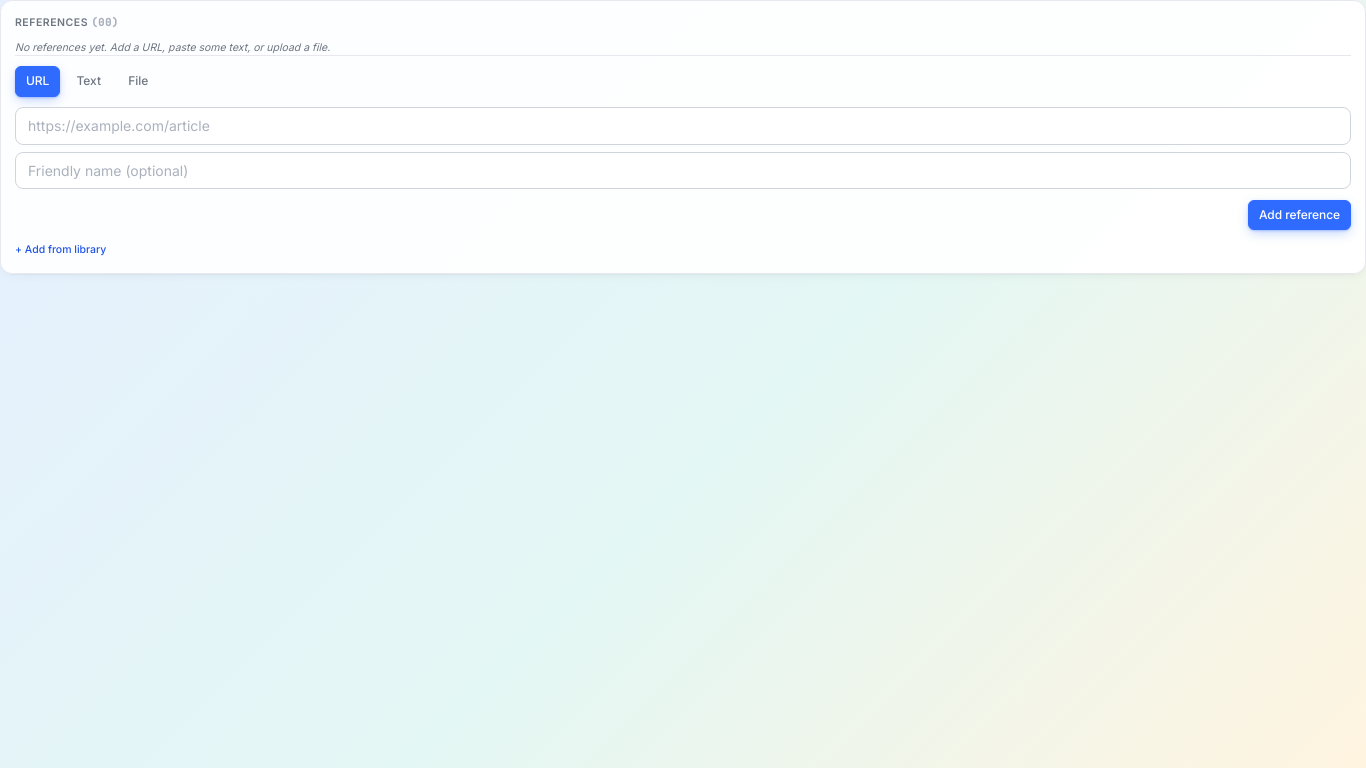
Test case: ReferencesList › submits a URL through AddReferenceForm and appends it to the list
Expected: the text "No references yet" is shown, [15, 40, 330, 54]
In the field named "Reference URL": (683,126) [15, 107, 1351, 145], type "https://example.com"
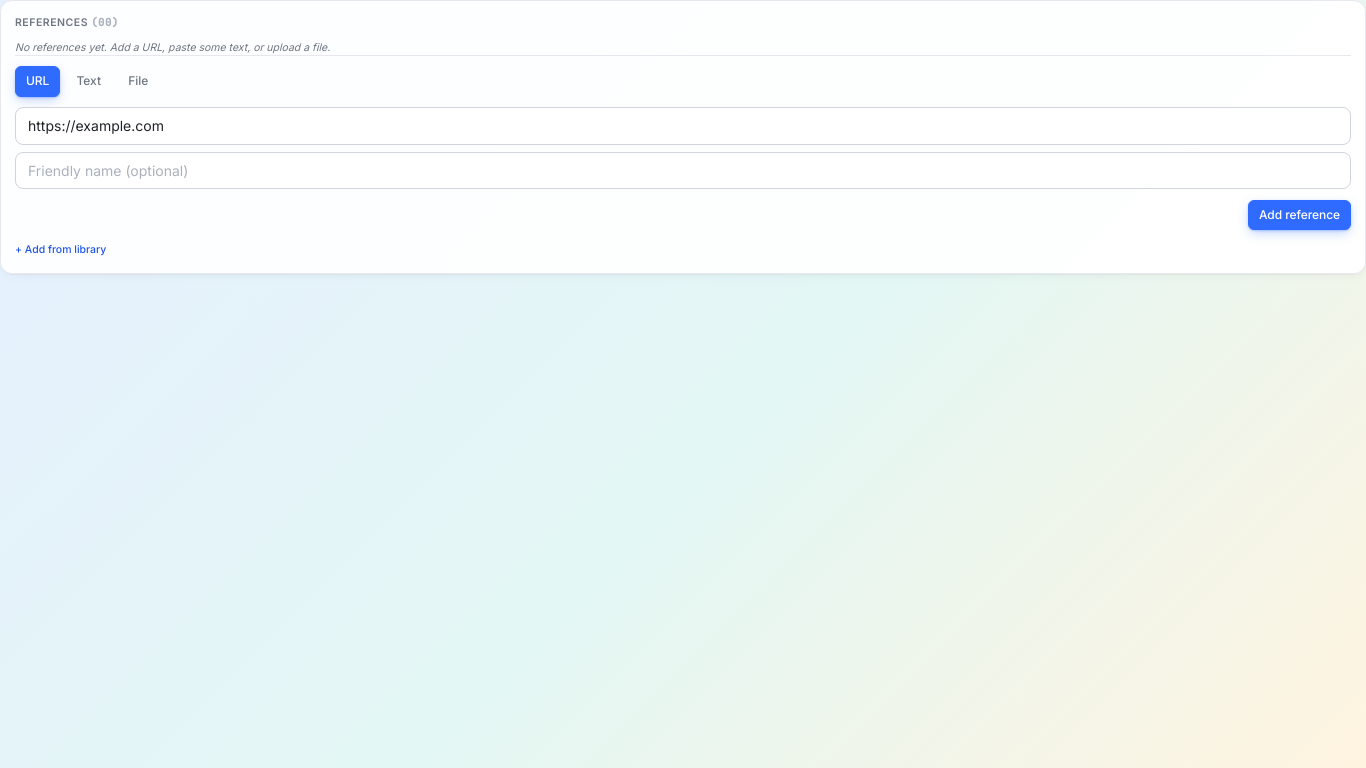
Click the button "Add reference": (1299,215) [1248, 200, 1351, 230]
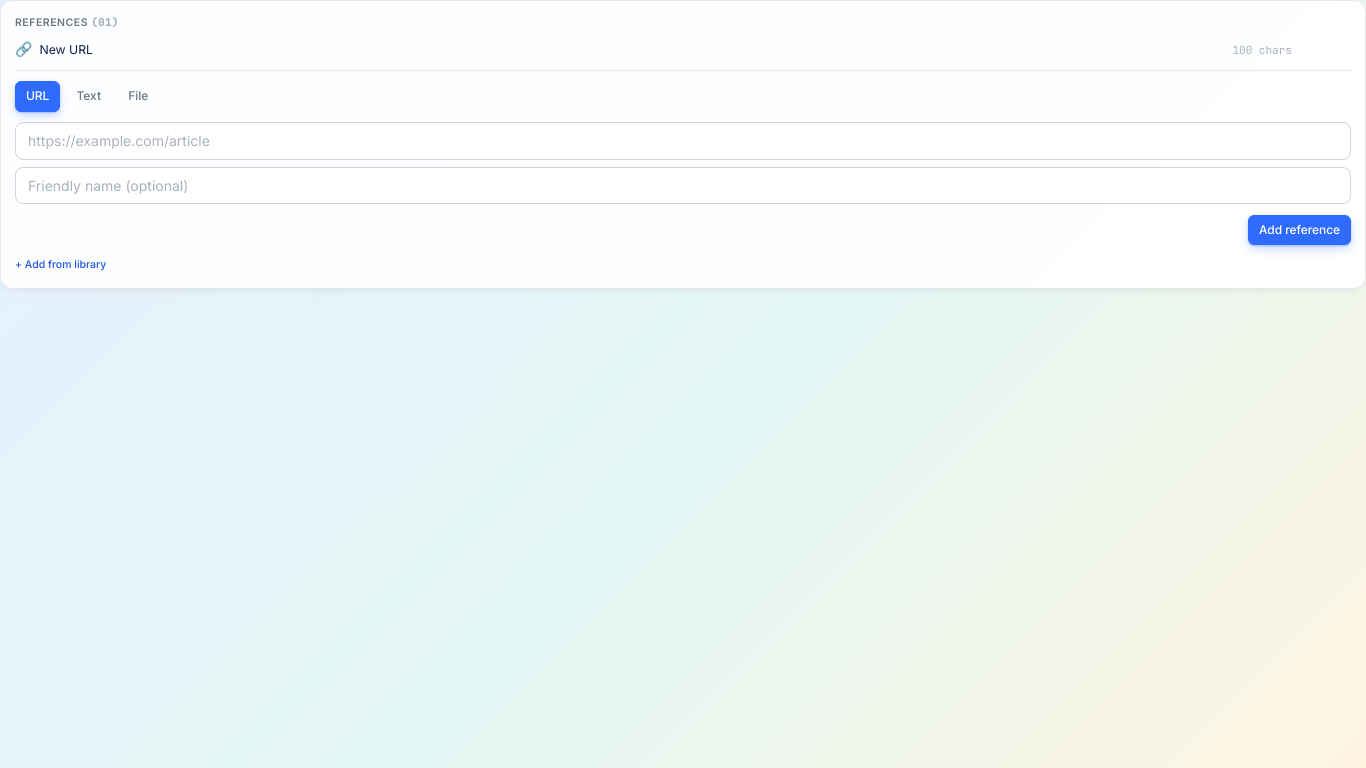
Expected: the text "New URL" is shown, [40, 42, 93, 56]
